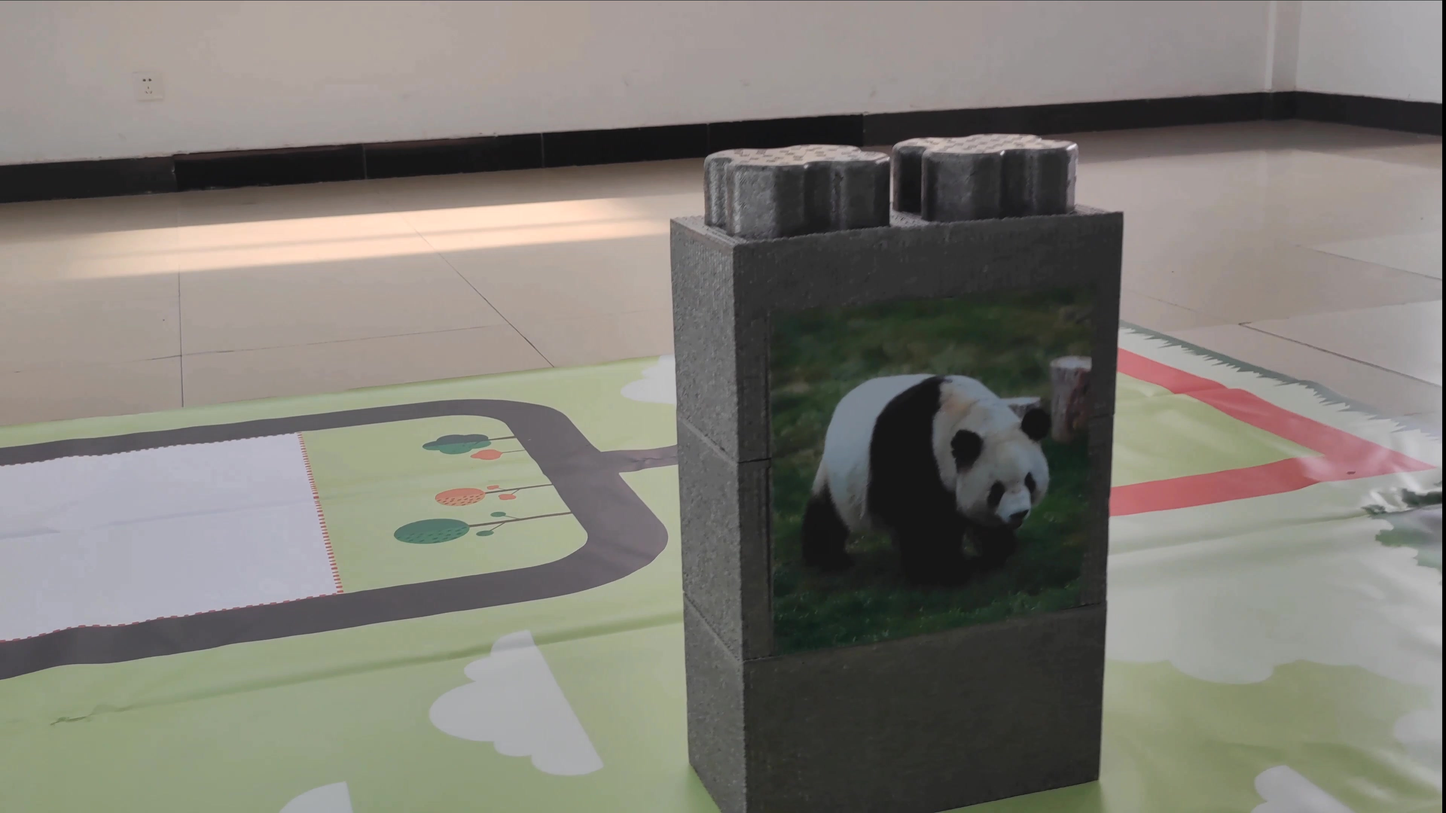panda: (772, 358, 1059, 591)
